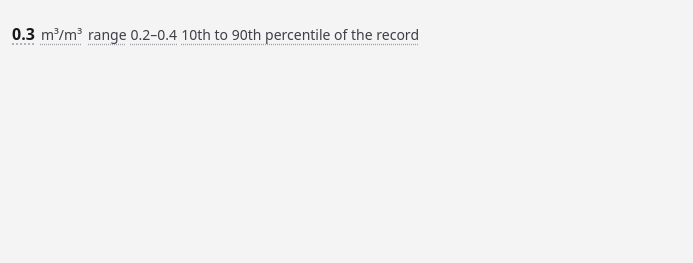
SourcedNumber › lists a dataset id it cannot find as an unknown source
The width and height of the screenshot is (693, 263).
What coordinates should you click on to do the following:
click the button with aria-label "Source: model estimate"
I would click on:
 (216, 34)
Its box is [12,12,419,56].
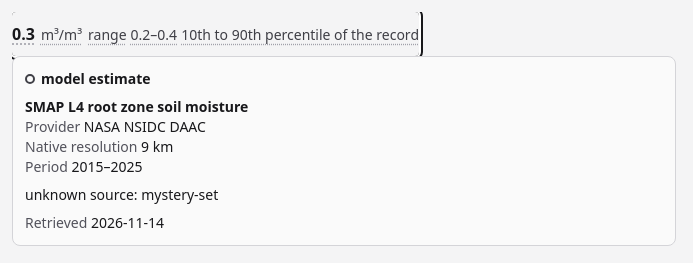
Check: the text "unknown source: mystery-set" is shown, box [25,185,218,204]
Check: the text "SMAP L4 root zone soil moisture" is shown, box [25,97,248,116]
